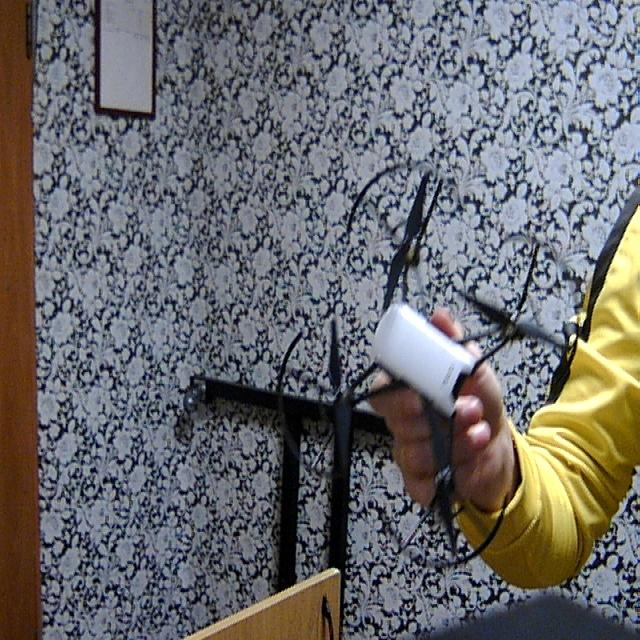drone: (276, 166, 592, 581)
